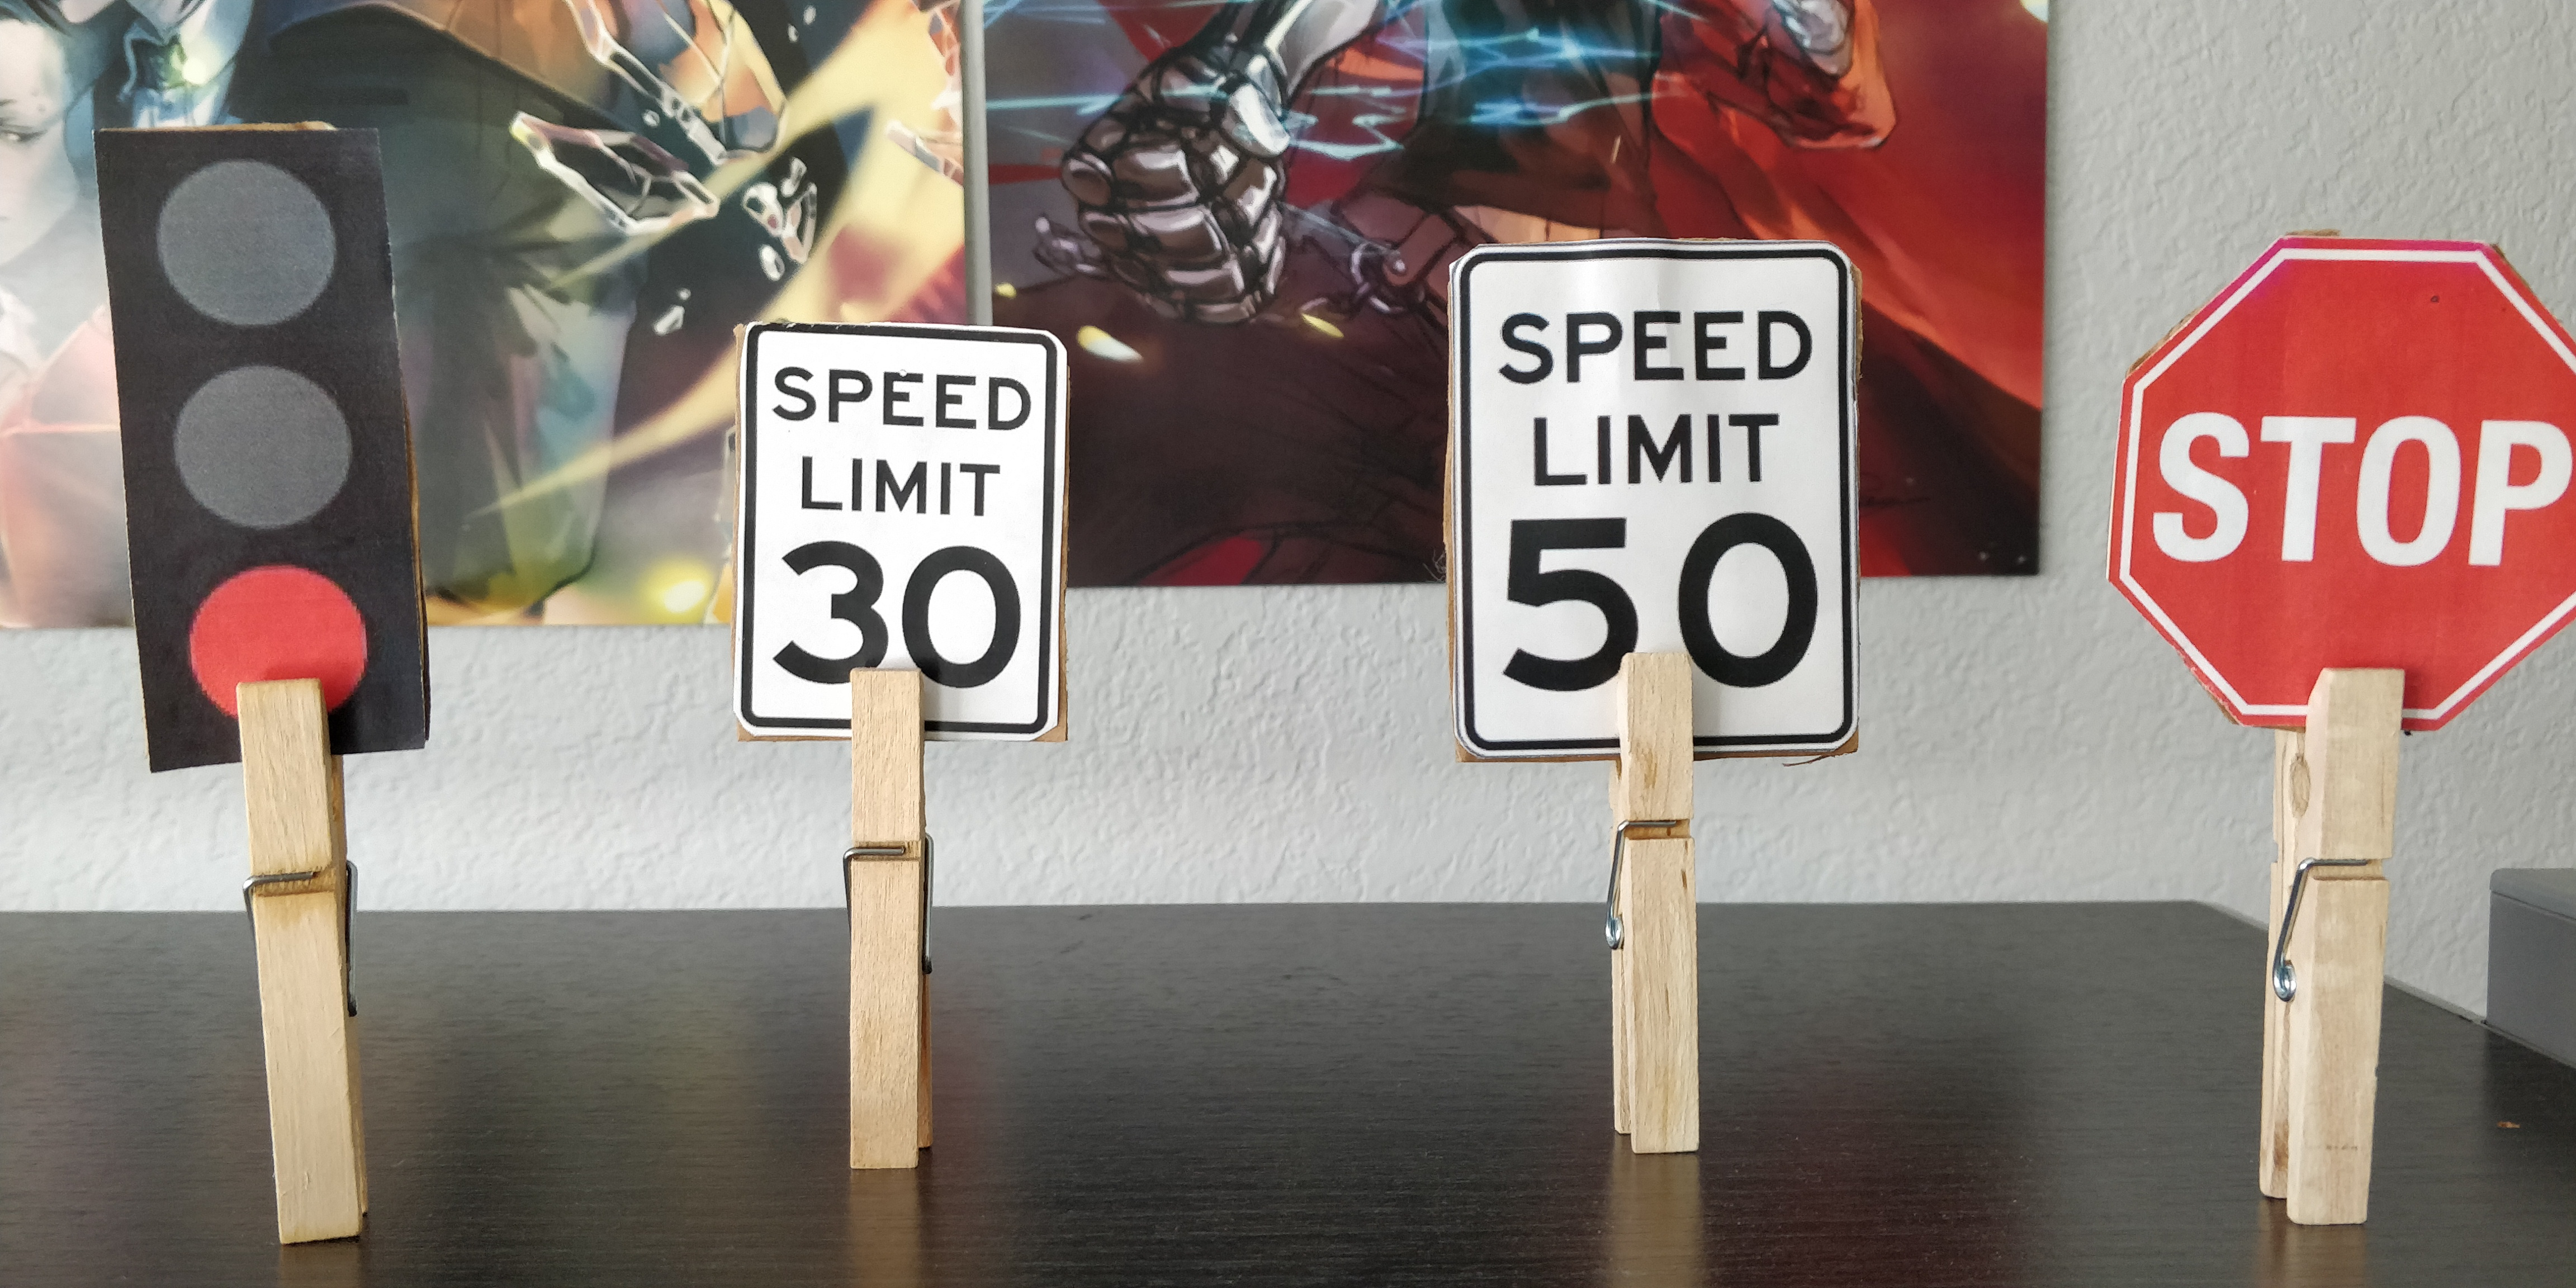Speed Limit 30: (729, 319, 1071, 746)
Speed Limit 50: (1447, 243, 1860, 766)
Stop Sign: (2109, 235, 2576, 733)
red light: (95, 125, 430, 771)
